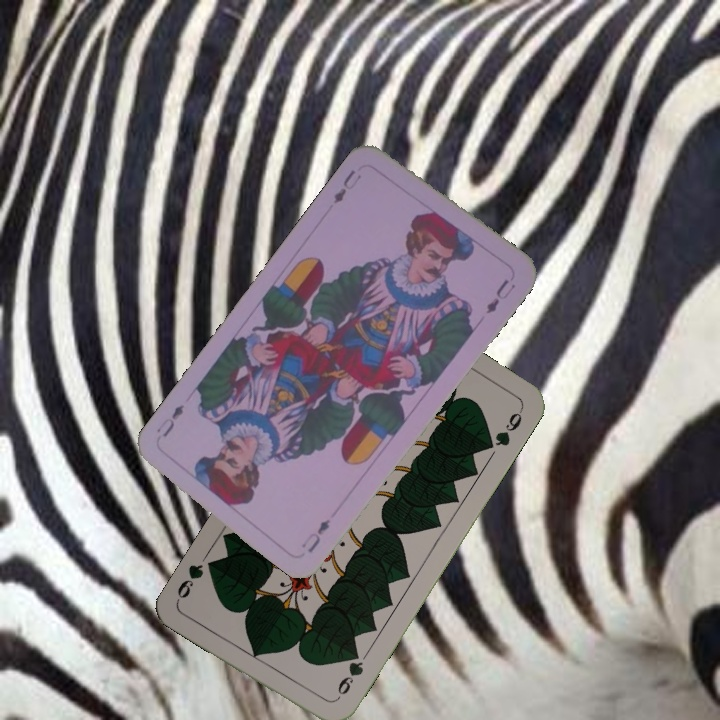EU: (329, 165, 365, 207), (297, 514, 333, 556)
G9: (331, 646, 367, 703)
